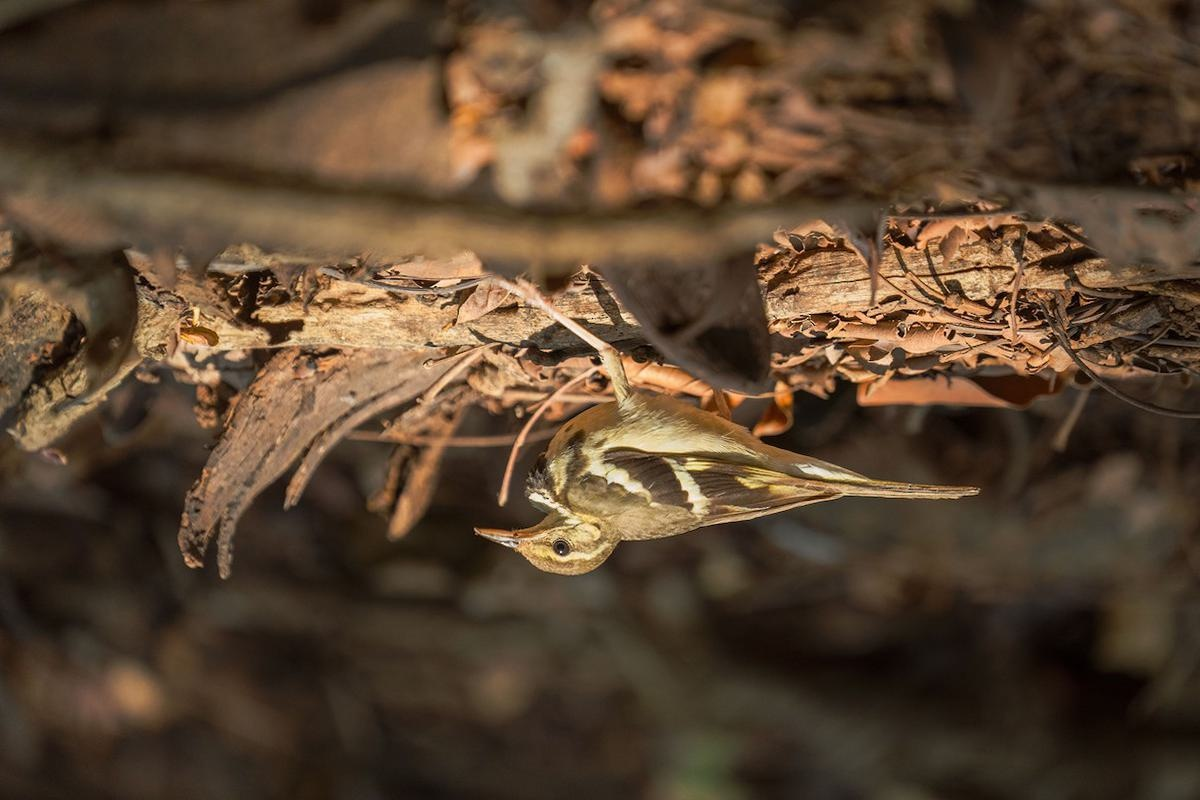wagtail: (426, 280, 1018, 631)
